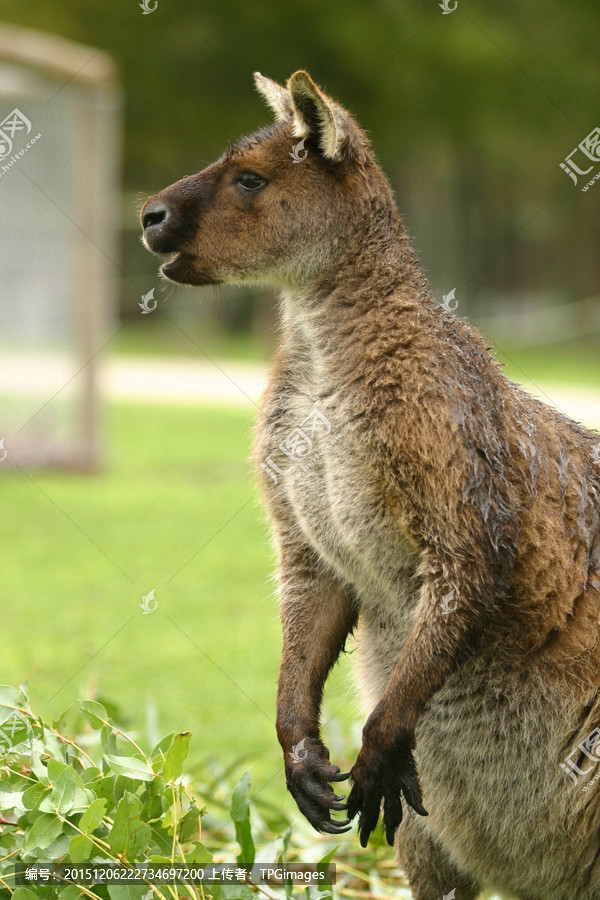kangaroo: (128, 66, 598, 894)
